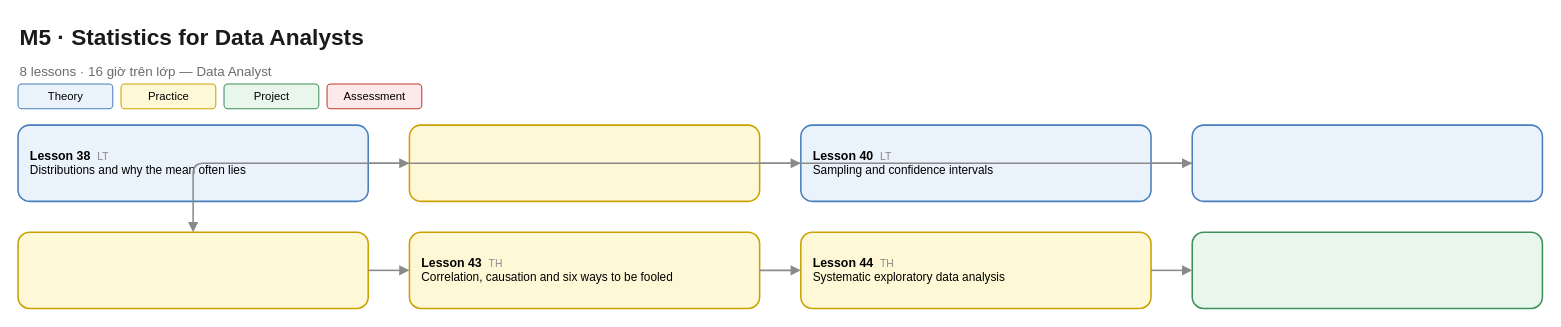
Image size: 1561x327. Some labels were removed from this diagram. Here are the shapes that lost their labels. From the top down, the centre of each, then its label:
At (x=584, y=163): "Lesson 39 TH Variation - real difference or just noise".
At (x=1367, y=163): "Lesson 41 LT Hypothesis testing and the p-value".
At (x=193, y=270): "Lesson 42 TH Choosing a test and checking its assumptions".
At (x=1367, y=270): "Lesson 45 DA Statistics project".
